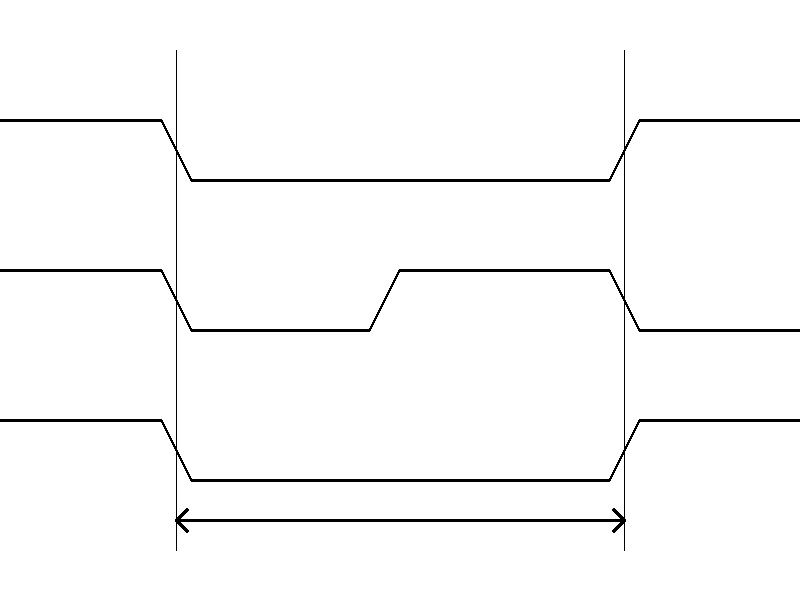double_arrow: (176, 505, 624, 535)
